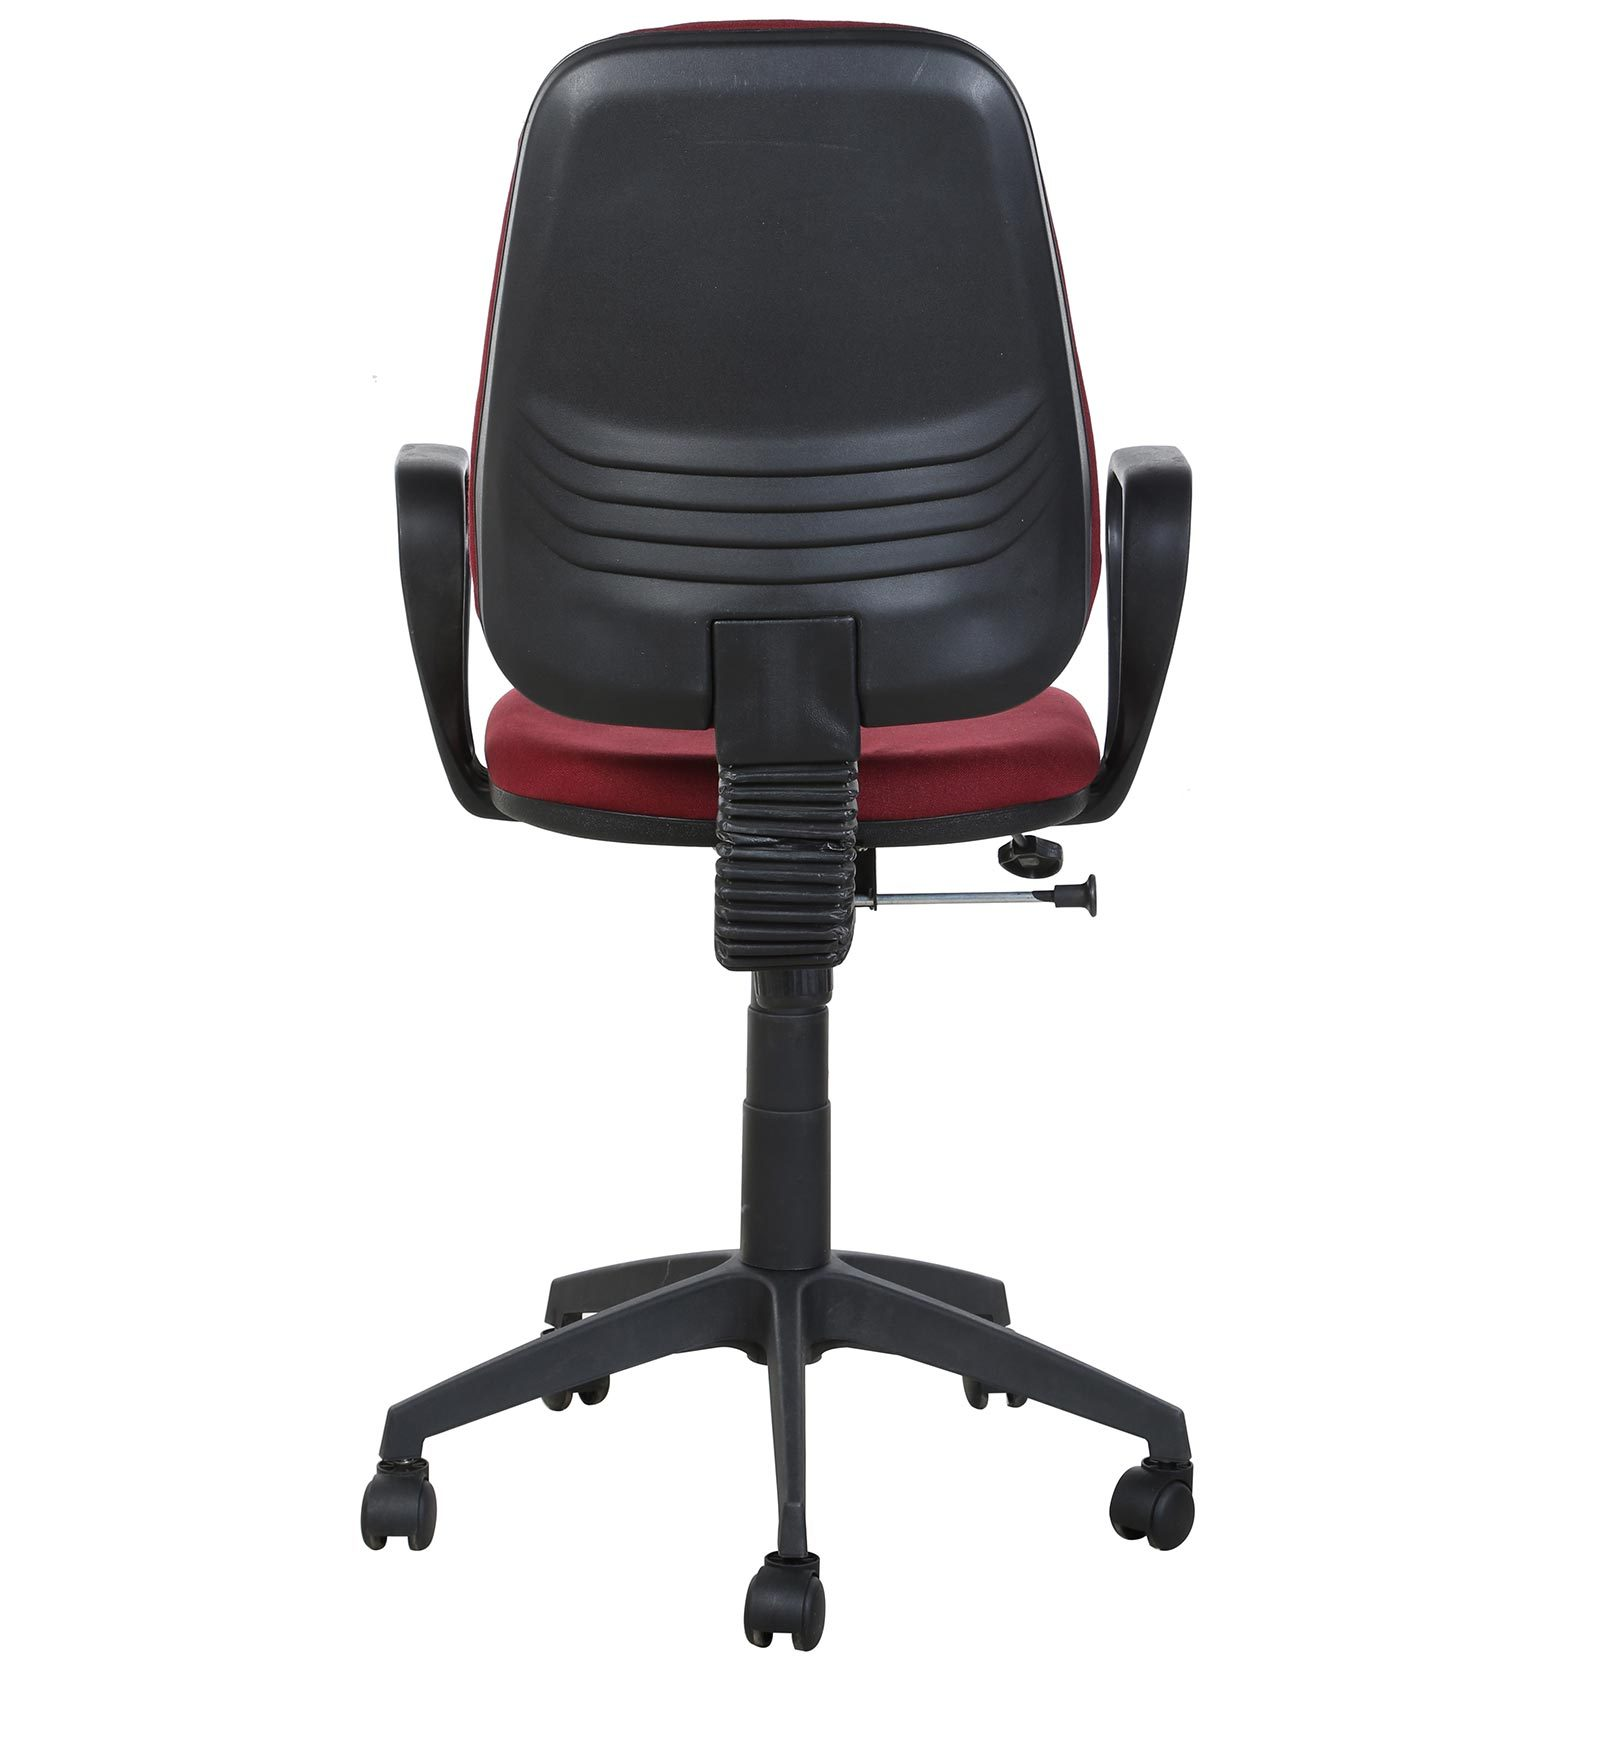Star Ergonomic Chair in Maroon Colour by Parin: (239, 15, 1316, 1709)
